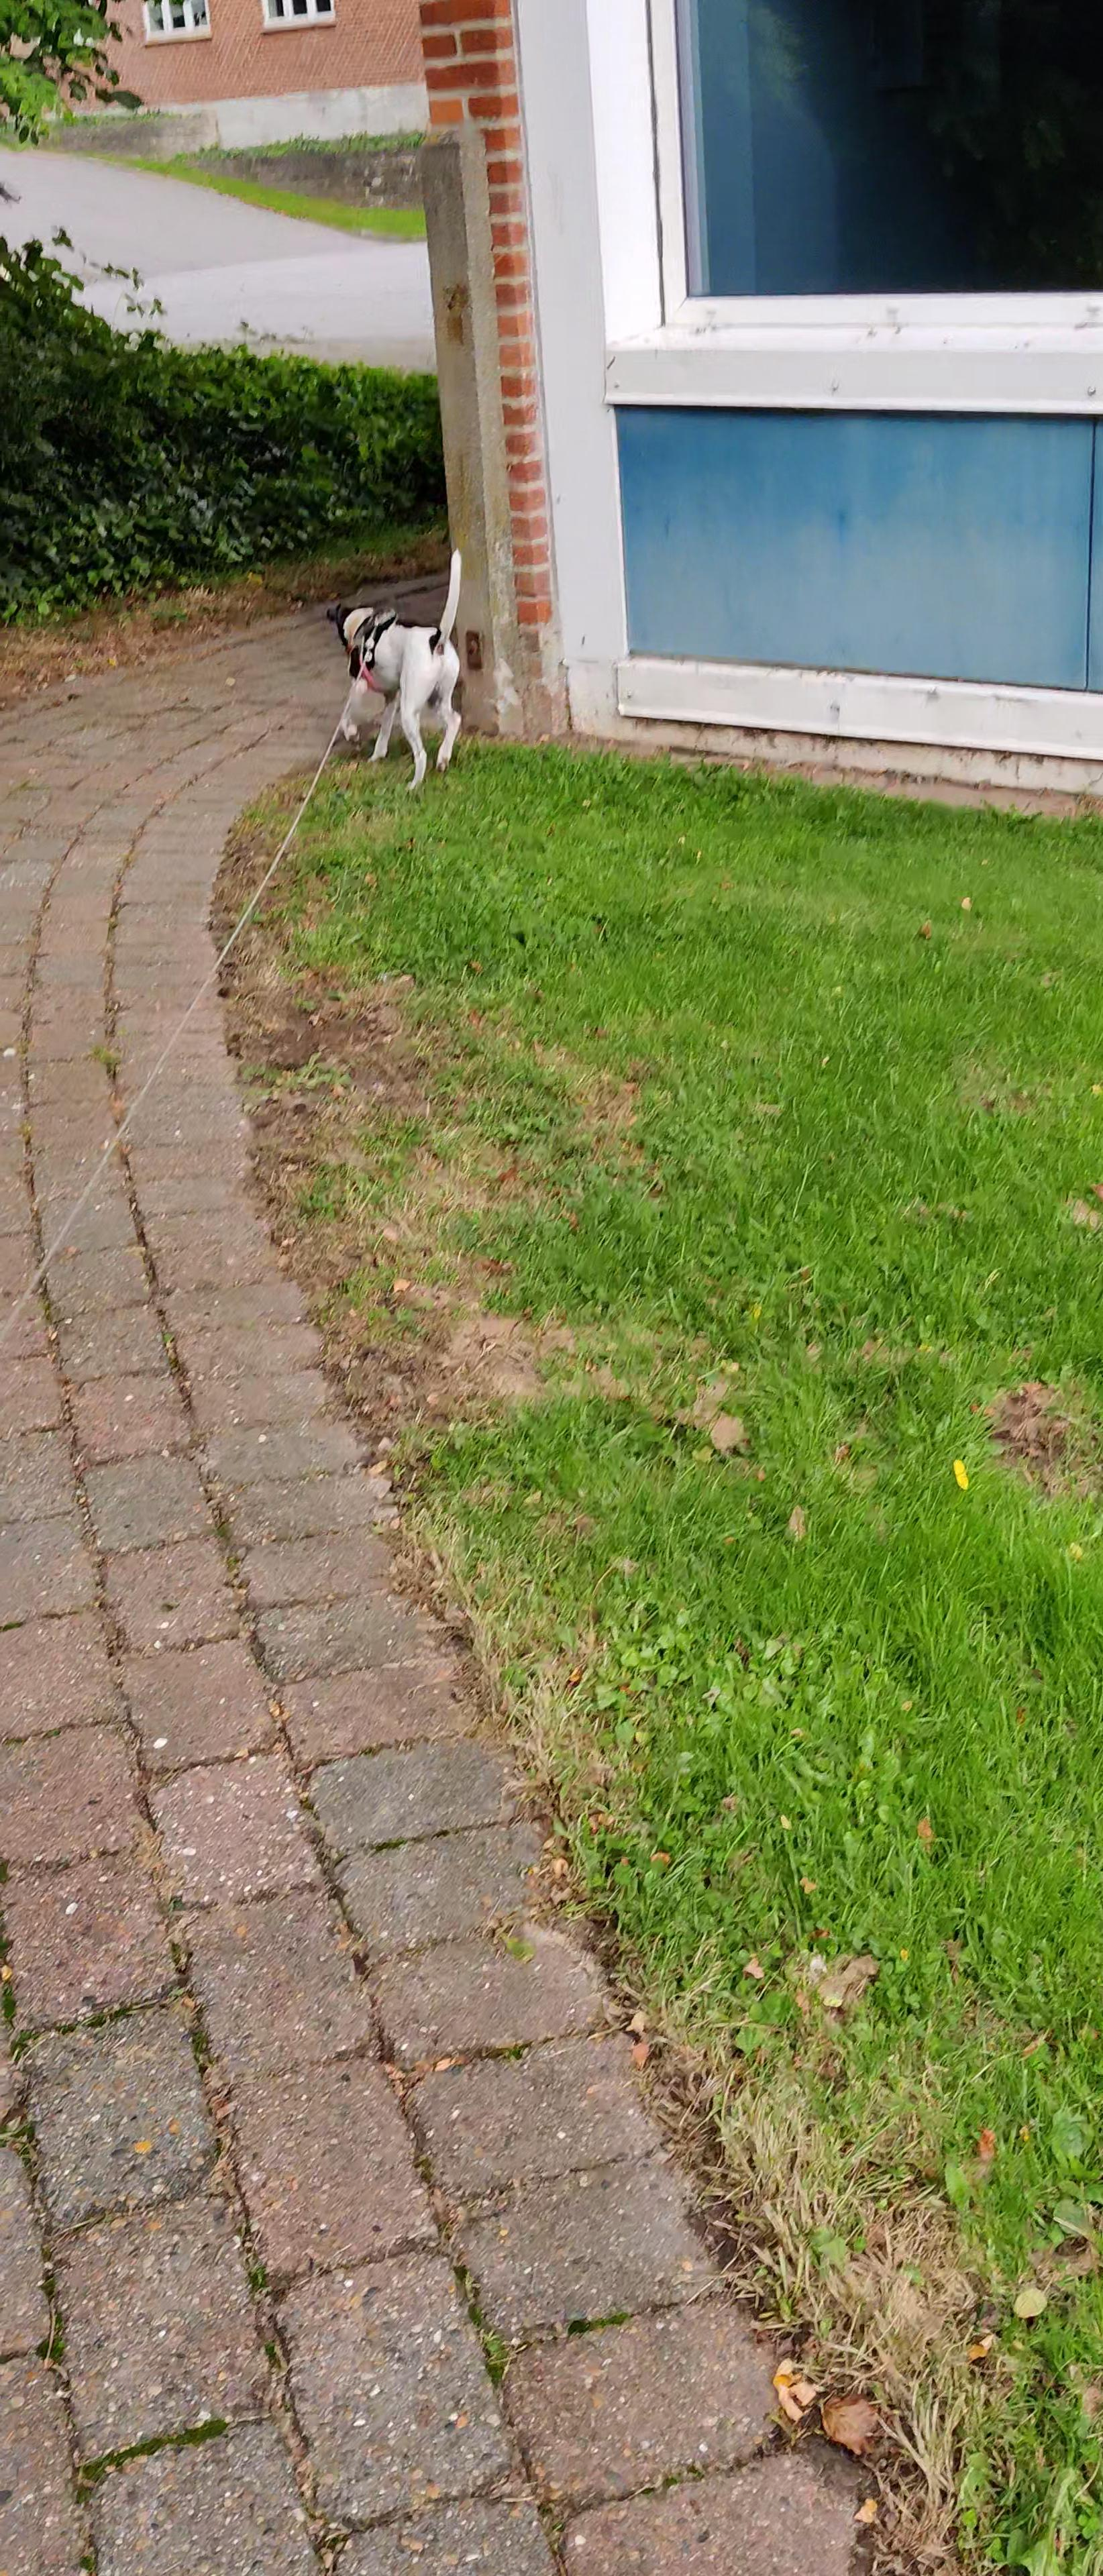Dog: (325, 545, 467, 792)
